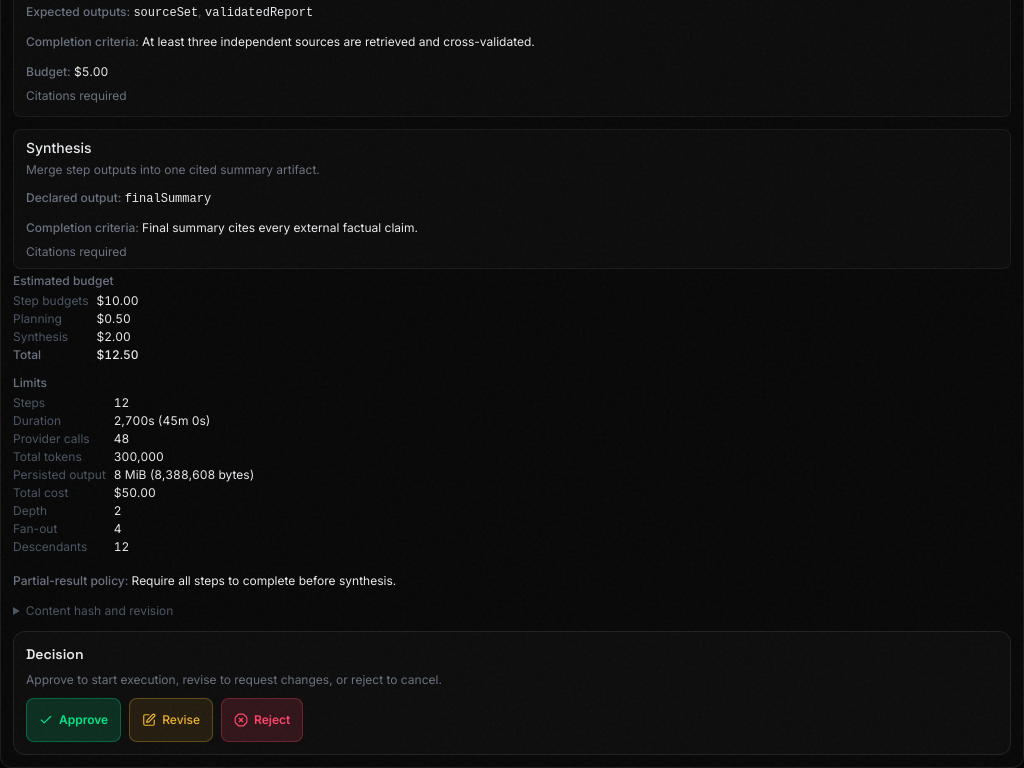
Test: Mission plan decision accessibility (m3-f08) › VAL-PLAN-087: Reduced motion preserves information › gates animated icons behind motion-safe in the reject dialog
The image size is (1024, 768).
(page scrolled)
Click the button with aria-label "reject plan revision 1" at [262, 720], box x1=221 y1=698 x2=303 y2=742
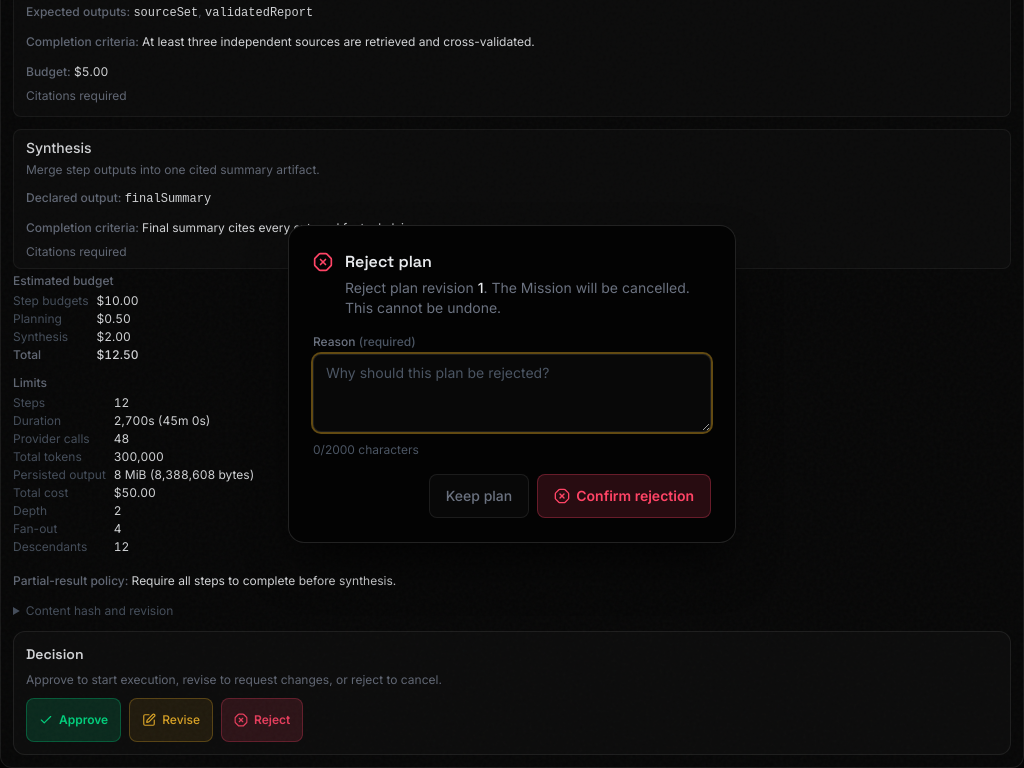
Expected: the dialog is shown, x1=288 y1=225 x2=736 y2=543
